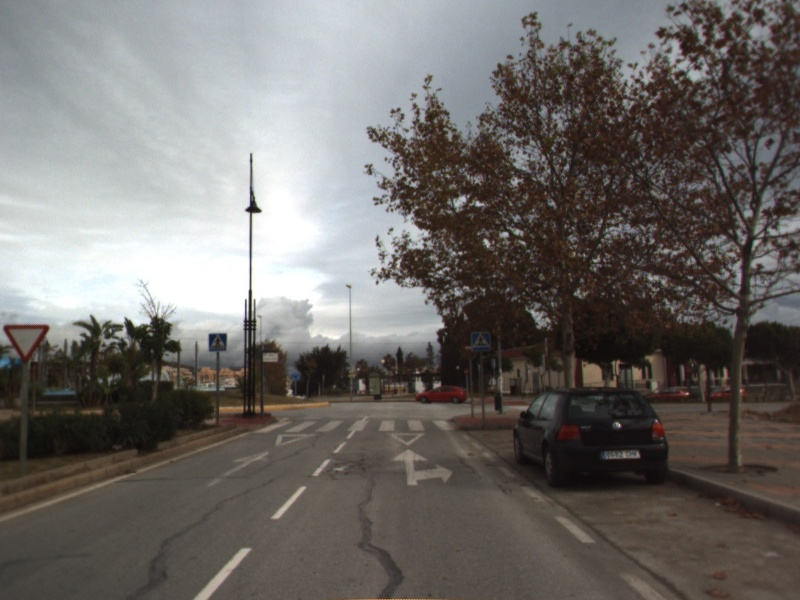STRAIGHT: (204, 447, 271, 489)
STRAIGHT_RIGHT: (389, 447, 455, 488)
